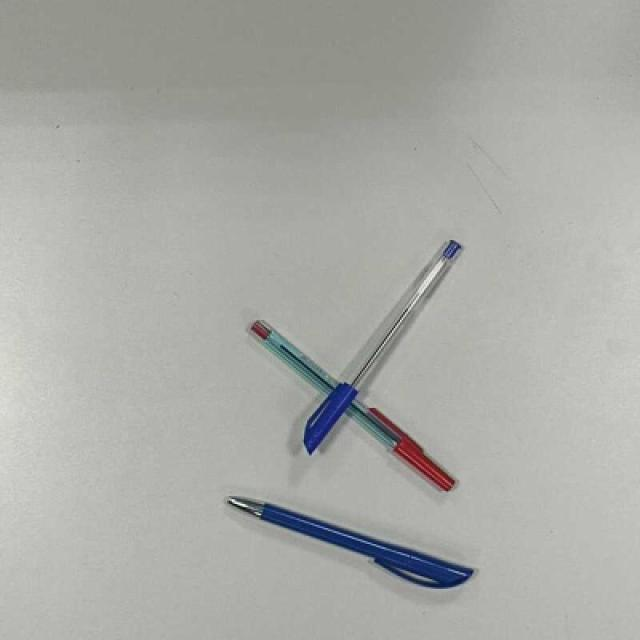caneta: (290, 233, 465, 457), (251, 312, 458, 495), (222, 491, 473, 599)
